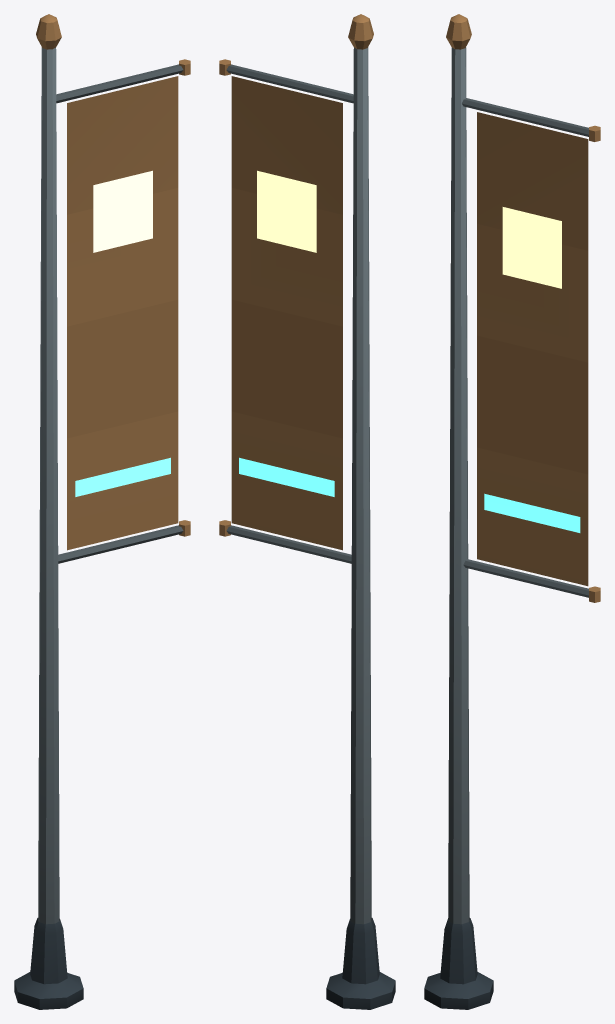
The model's file is banner-mast.lod1.glb.
The picture shows the model from 3 angles, left to right: view 1: azimuth 30°, elevation 25°; view 2: azimuth 150°, elevation 25°; view 3: azimuth 330°, elevation 25°; orthographic projection.
Parts seen in each view (by area): view 1: banner, structure; view 2: banner, structure; view 3: banner, structure.
Boxes of the visible parts, x1=… form: banner: x1=67, y1=76, x2=178, y2=550; structure: x1=14, y1=14, x2=190, y2=1009; banner: x1=231, y1=76, x2=342, y2=550; structure: x1=219, y1=14, x2=395, y2=1009; banner: x1=477, y1=112, x2=588, y2=586; structure: x1=424, y1=14, x2=600, y2=1009.
Size of the model in its own units: 1.33 by 7.24 by 0.4799.
